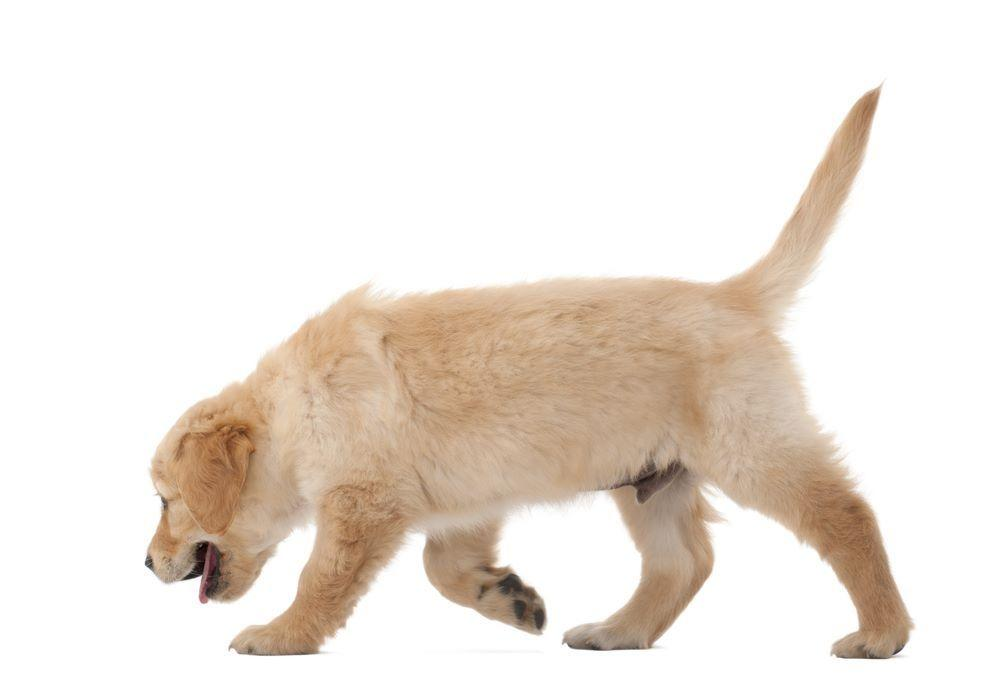puppy-dog: (141, 74, 917, 661)
